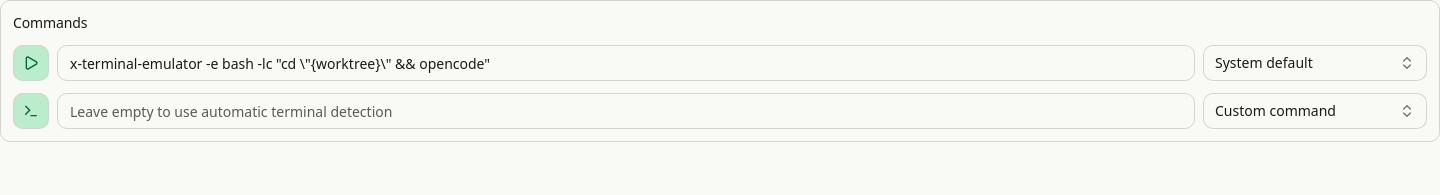
it: CommandsSettingsForm › shows error message when save fails
In the field with id "open-terminal-at-worktree-command": x=626, y=111 [57,93,1195,129], type "ghostty"
Wait 500 ms
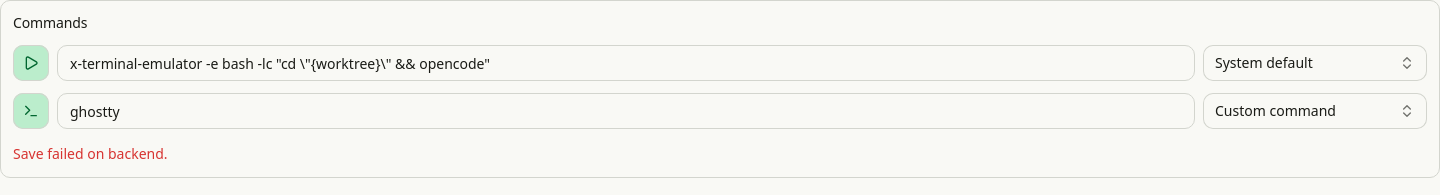
Expected: the text "Save failed on backend." is shown, [13,144,168,164]
